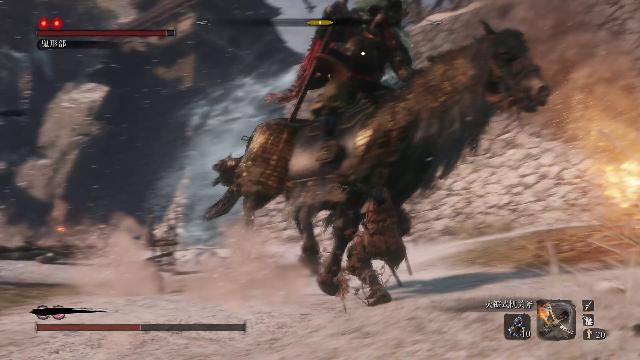sk: (338, 168, 410, 308)
